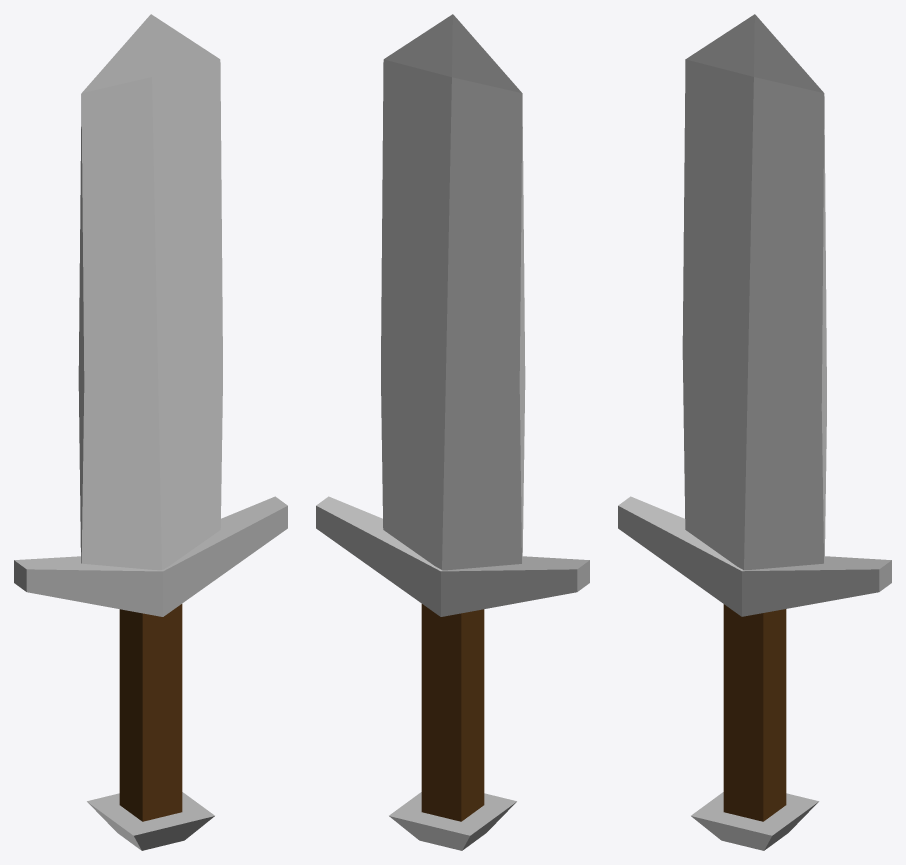
File: sword.fbx
3 views of the same model, side by side, from view 1: azimuth 30°, elevation 25°; view 2: azimuth 150°, elevation 25°; view 3: azimuth 330°, elevation 25° (orthographic).
Visible parts, largest first — view 1: edge, protect, handle; view 2: edge, protect, handle; view 3: edge, protect, handle.
Part boxes in pixels (x1,y1,x2,y2): edge: [78, 14, 222, 570]; protect: [14, 496, 287, 850]; handle: [119, 604, 182, 821]; edge: [381, 14, 525, 570]; protect: [316, 496, 589, 850]; handle: [421, 604, 484, 821]; edge: [682, 14, 826, 569]; protect: [618, 496, 891, 850]; handle: [723, 604, 786, 821].
Size of the model in its own units: 1316 by 3960 by 411.
